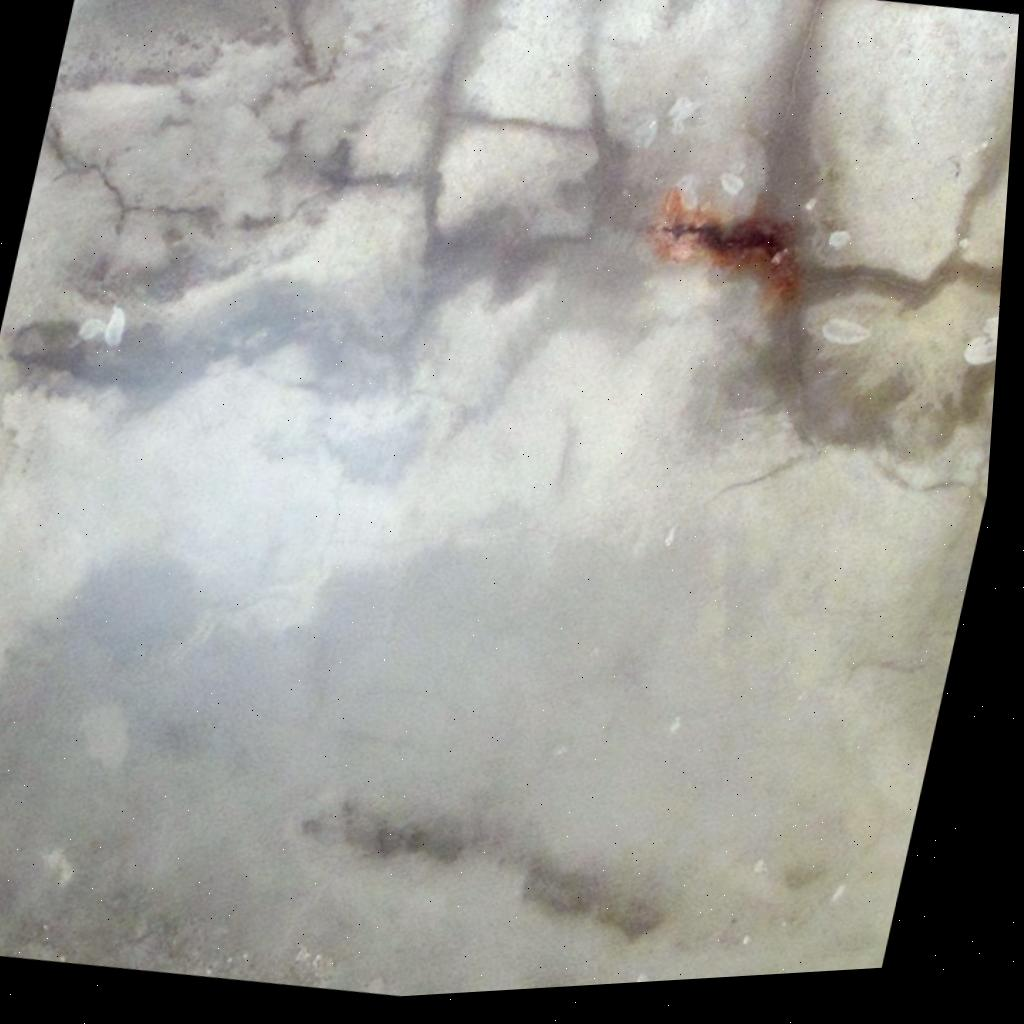spalling: (643, 187, 800, 303)
